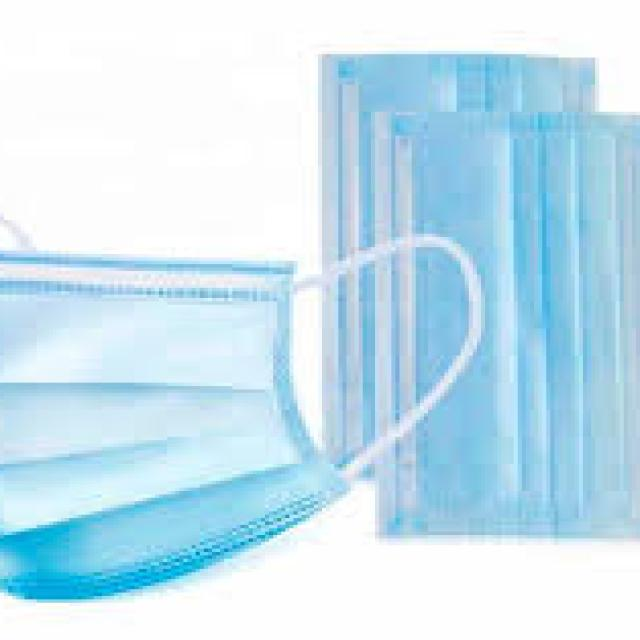organic: (25, 16, 601, 624)
